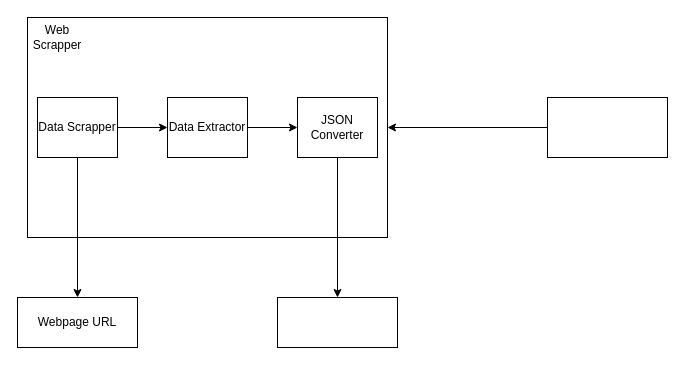
Image size: 685x365. Some labels were removed from this diagram. Here are the shapes that lost their labels. From the top down, the centre of each, then its label:
the point at 607,127: URL Seed
the point at 337,322: JSON Format Data
